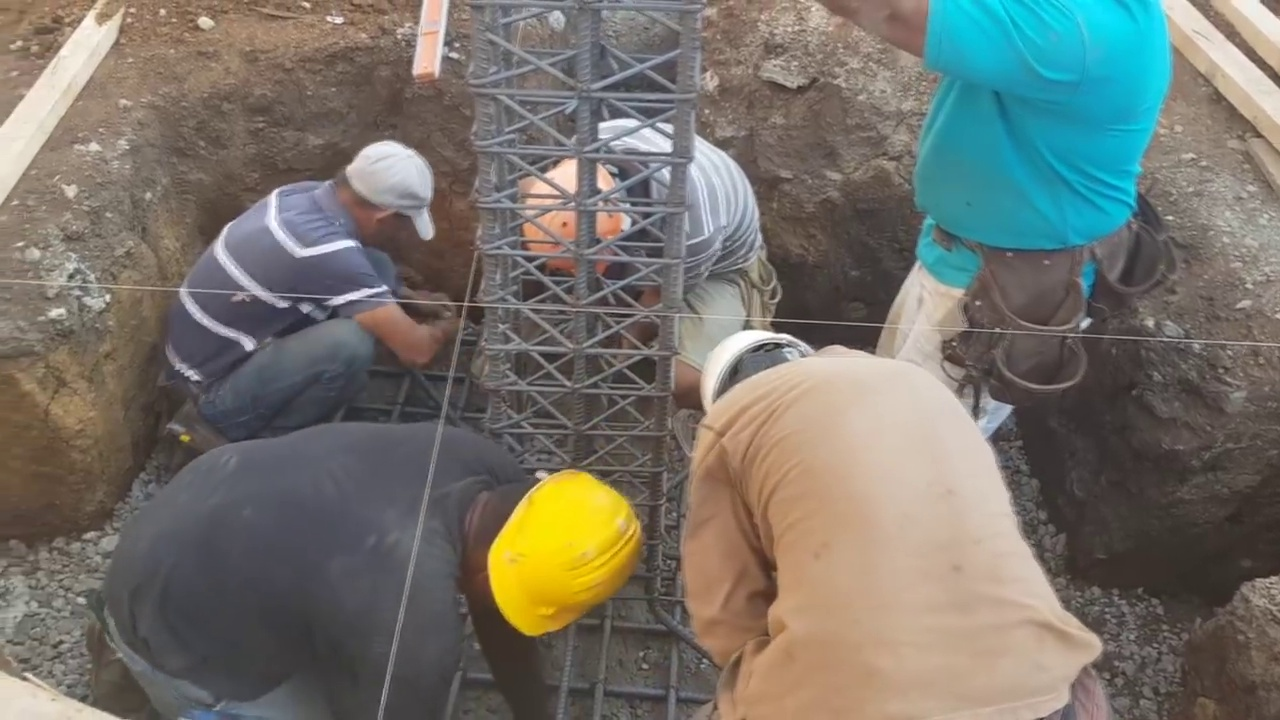helmet: (472, 468, 639, 641), (527, 164, 636, 275), (699, 335, 812, 418)
helmet-off: (331, 134, 436, 261)
helmet-on: (452, 456, 649, 648), (522, 141, 658, 274), (700, 335, 826, 429)
person: (679, 334, 1111, 719), (92, 428, 649, 720), (862, 0, 1178, 493), (167, 137, 477, 439), (501, 116, 783, 408)
